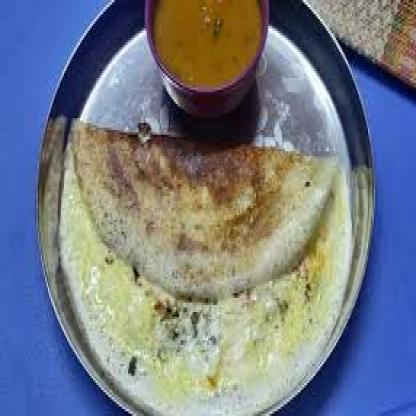dosa: (59, 121, 354, 416)
